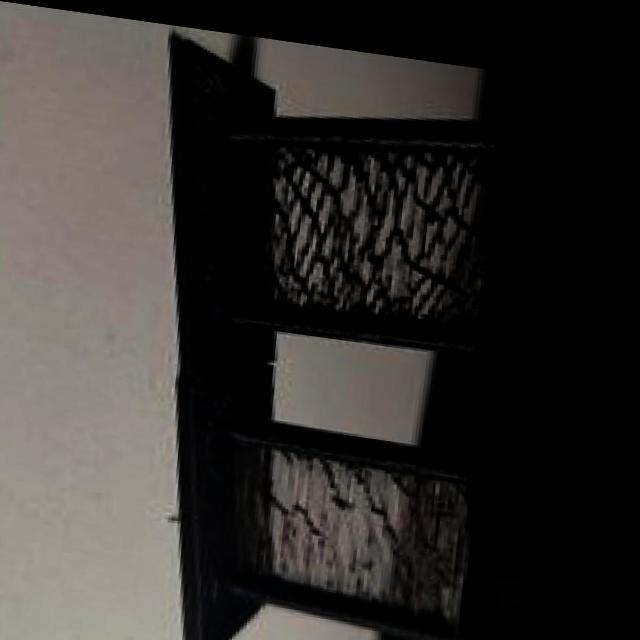stringing: (241, 102, 502, 328), (230, 428, 483, 620)
